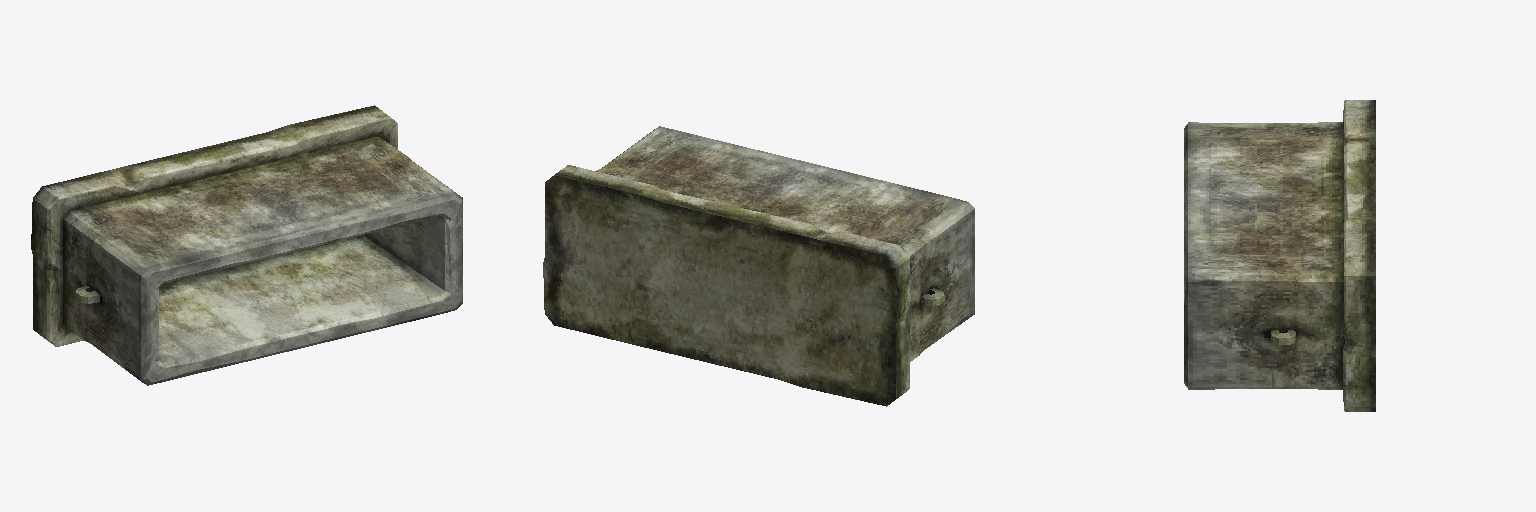
3 renders of one model, left to right at view 1: azimuth 30°, elevation 25°; view 2: azimuth 150°, elevation 25°; view 3: azimuth 270°, elevation 25°, orthographic.
Parts seen in each view (by area): view 1: tdr_d_sarco; view 2: tdr_d_sarco; view 3: tdr_d_sarco.
Part boxes in pixels (bbox=[...]): tdr_d_sarco: bbox=[31, 105, 462, 385]; tdr_d_sarco: bbox=[543, 126, 974, 406]; tdr_d_sarco: bbox=[1184, 100, 1375, 411].
Bounding box in the file's own units: 1109 × 458 × 518.
Materials: 1 (1 with a texture image).